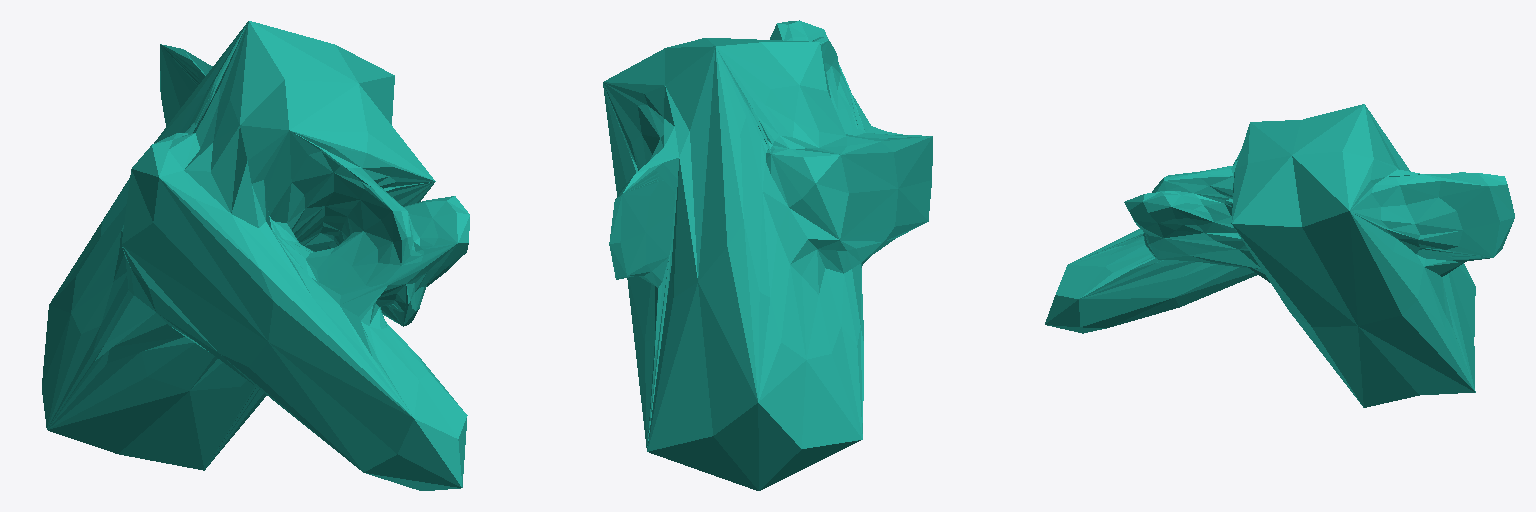
URDF robot description (blob339):

<robot name="blob339">
  <link name="random_obj_339">
    <contact>
      <lateral_friction value="1.0"/>
      <rolling_friction value="0.0"/>
      <inertia_scaling value="3.0"/>
      <contact_cfm value="0.0"/>
      <contact_erp value="1.0"/>
    </contact>
    <inertial>
      <origin rpy="0 0 0" xyz="0 0 0"/>
      <mass value="0.1019"/>
      <inertia ixx="1" ixy="0" ixz="0" iyy="1" iyz="0" izz="0"/>
    </inertial>
    <visual>
      <origin rpy="0 0 0" xyz="0 0 0"/>
      <geometry>
        <mesh filename="339.obj" scale="0.0089 0.0089 0.0089"/>
      </geometry>
      <material name="blockmat">
        <color rgba="0.19 0.73 0.67 1"/>
      </material>
    </visual>
    <collision>
      <origin rpy="0 0 0" xyz="0 0 0"/>
      <geometry>
        <mesh filename="339_coll.obj" scale="0.0089 0.0089 0.0089"/>
      </geometry>
    </collision>
  </link>
</robot>

--- What the picture shows (computed from the rendered views, not written in the file) ---
The picture shows the robot from 3 angles, left to right: view 1: azimuth 30°, elevation 25°; view 2: azimuth 150°, elevation 25°; view 3: azimuth 270°, elevation 25°; orthographic projection.
Model blob339 with 1 links and 0 joints (none), rooted at random_obj_339, posed all joints at 0.
Links seen in each view (by area): view 1: random_obj_339; view 2: random_obj_339; view 3: random_obj_339.
Boxes of the visible links, box(x1,y1,x2,y2) form: random_obj_339: box(42, 21, 469, 490); random_obj_339: box(603, 20, 932, 490); random_obj_339: box(1045, 104, 1514, 407).
Size in the robot's own frame: 0.0772 by 0.1354 by 0.1015 metres.
Meshes: 1 distinct files referenced, 1 mesh visuals loaded (1 OBJ).
